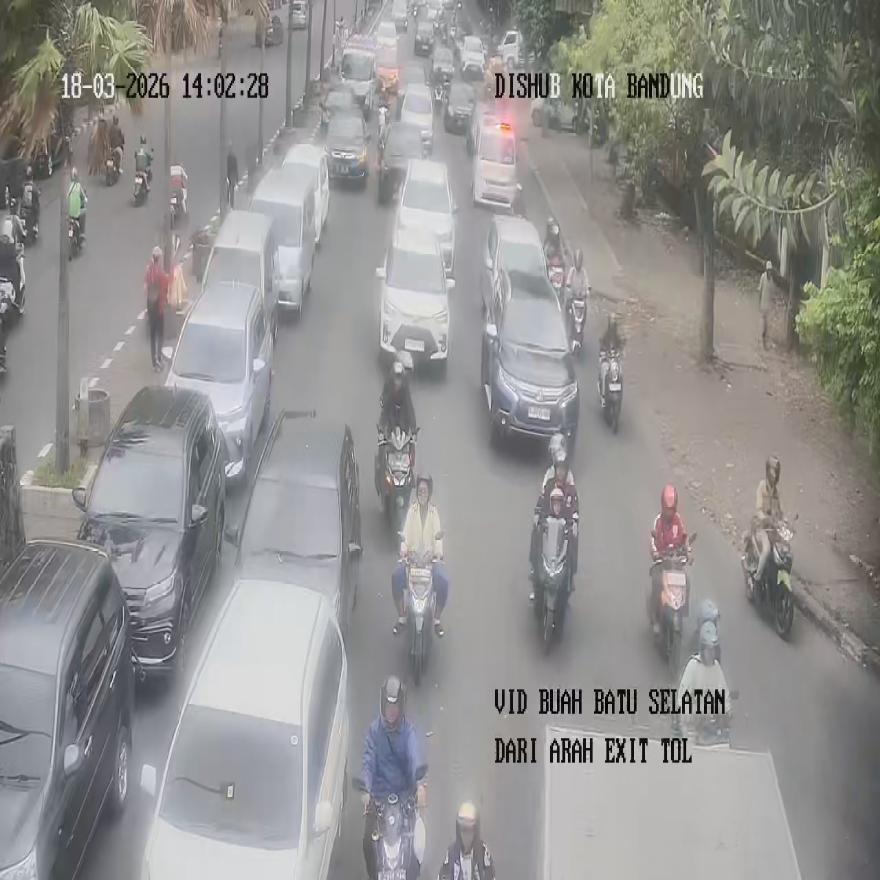Motor: (138, 576, 349, 878), (72, 385, 225, 683), (0, 539, 133, 876), (536, 721, 802, 878), (224, 408, 362, 644), (480, 215, 578, 447), (164, 281, 273, 485), (375, 222, 454, 370), (200, 209, 279, 346), (249, 166, 314, 314), (395, 159, 457, 280), (468, 105, 521, 213)
Truk: (355, 764, 426, 880), (744, 514, 796, 636), (402, 536, 443, 689), (649, 534, 694, 672), (530, 515, 572, 650), (376, 424, 415, 532), (598, 351, 622, 431), (567, 287, 587, 358), (18, 184, 40, 246), (133, 138, 153, 205), (168, 166, 187, 229), (68, 210, 85, 259), (105, 144, 123, 185)
